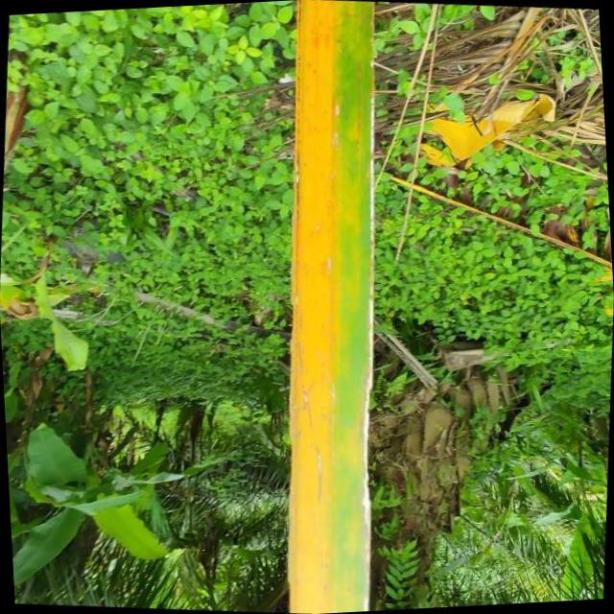Megnesium: (288, 0, 376, 614)
